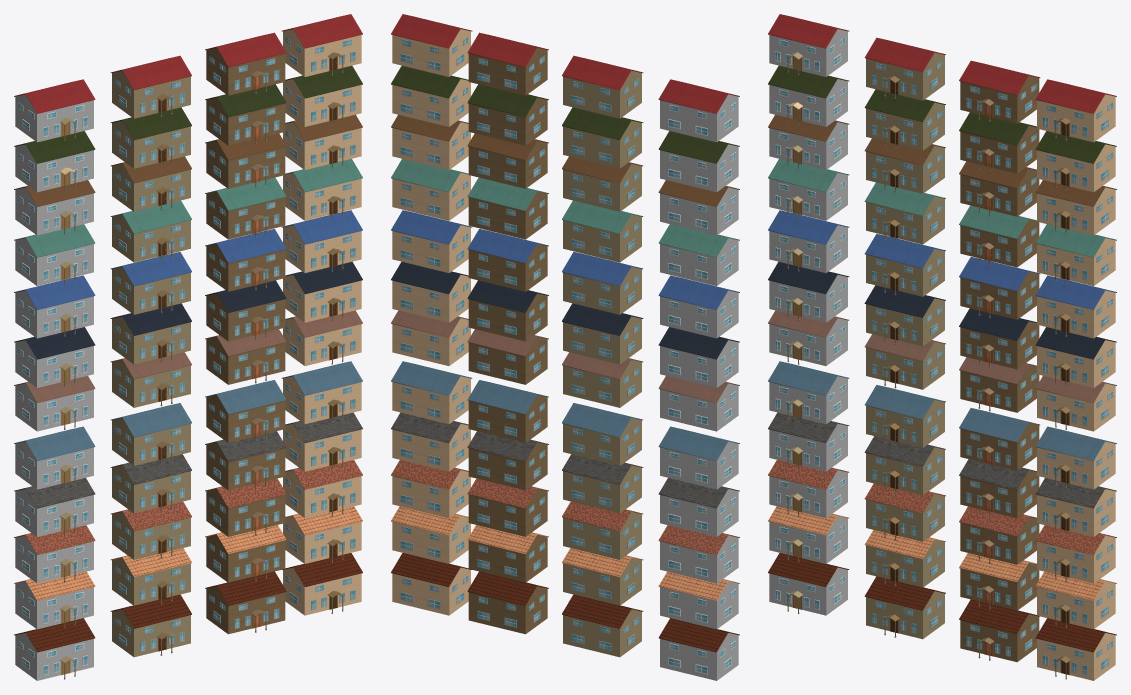
The model's file is ModularHouses_H_V1.fbx.
3 renders of one model, left to right at view 1: azimuth 30°, elevation 25°; view 2: azimuth 150°, elevation 25°; view 3: azimuth 330°, elevation 25°, orthographic.
Parts seen in each view (by area): view 1: H_House_01_V3_8, H_House_01_V3_5, H_House_01_V3_1, H_House_01_V1_1, H_House_01_V2_8, H_House_01_V1_5, H_House_01_V1_8, H_House_01_V2_1, H_House_01_V3_12, H_House_01_V2_5, H_House_01_V1_12, H_House_01_V4_8 (+36 smaller); view 2: H_House_01_V3_5, H_House_01_V3_1, H_House_01_V3_8, H_House_01_V2_8, H_House_01_V3_12, H_House_01_V1_5, H_House_01_V1_1, H_House_01_V1_8, H_House_01_V2_1, H_House_01_V2_5, H_House_01_V1_12, H_House_01_V2_12 (+36 smaller); view 3: H_House_01_V1_8, H_House_01_V4_1, H_House_01_V4_5, H_House_01_V2_1, H_House_01_V4_8, H_House_01_V1_1, H_House_01_V2_8, H_House_01_V1_5, H_House_01_V2_5, H_House_01_V3_1, H_House_01_V3_8, H_House_01_V3_5 (+36 smaller).
Boxes of the visible parts, left/top/right/bottom form: H_House_01_V3_8: left=205, top=380, right=286, bottom=442; H_House_01_V3_5: left=205, top=229, right=286, bottom=291; H_House_01_V3_1: left=205, top=32, right=286, bottom=95; H_House_01_V1_1: left=14, top=79, right=95, bottom=142; H_House_01_V2_8: left=111, top=403, right=191, bottom=465; H_House_01_V1_5: left=14, top=275, right=95, bottom=338; H_House_01_V1_8: left=14, top=426, right=95, bottom=489; H_House_01_V2_1: left=110, top=55, right=191, bottom=118; H_House_01_V3_12: left=205, top=571, right=286, bottom=634; H_House_01_V2_5: left=111, top=252, right=191, bottom=314; H_House_01_V1_12: left=14, top=618, right=95, bottom=680; H_House_01_V4_8: left=281, top=361, right=362, bottom=424; H_House_01_V3_5: left=467, top=229, right=548, bottom=291; H_House_01_V3_1: left=467, top=32, right=548, bottom=95; H_House_01_V3_8: left=467, top=380, right=548, bottom=442; H_House_01_V2_8: left=562, top=403, right=642, bottom=465; H_House_01_V3_12: left=467, top=571, right=548, bottom=634; H_House_01_V1_5: left=658, top=275, right=739, bottom=338; H_House_01_V1_1: left=658, top=79, right=739, bottom=142; H_House_01_V1_8: left=658, top=426, right=739, bottom=489; H_House_01_V2_1: left=562, top=55, right=643, bottom=118; H_House_01_V2_5: left=562, top=252, right=642, bottom=314; H_House_01_V1_12: left=658, top=618, right=739, bottom=680; H_House_01_V2_12: left=562, top=594, right=643, bottom=657; H_House_01_V1_8: left=768, top=361, right=849, bottom=424; H_House_01_V4_1: left=1035, top=79, right=1116, bottom=142; H_House_01_V4_5: left=1035, top=275, right=1116, bottom=338; H_House_01_V2_1: left=864, top=37, right=945, bottom=100; H_House_01_V4_8: left=1035, top=426, right=1116, bottom=489; H_House_01_V1_1: left=768, top=14, right=849, bottom=76; H_House_01_V2_8: left=864, top=385, right=945, bottom=447; H_House_01_V1_5: left=768, top=210, right=849, bottom=272; H_House_01_V2_5: left=864, top=233, right=945, bottom=296; H_House_01_V3_1: left=959, top=60, right=1040, bottom=123; H_House_01_V3_8: left=959, top=408, right=1039, bottom=470; H_House_01_V3_5: left=959, top=257, right=1040, bottom=319.
Bounding box in the file's own units: 309 × 526 × 44.61.
